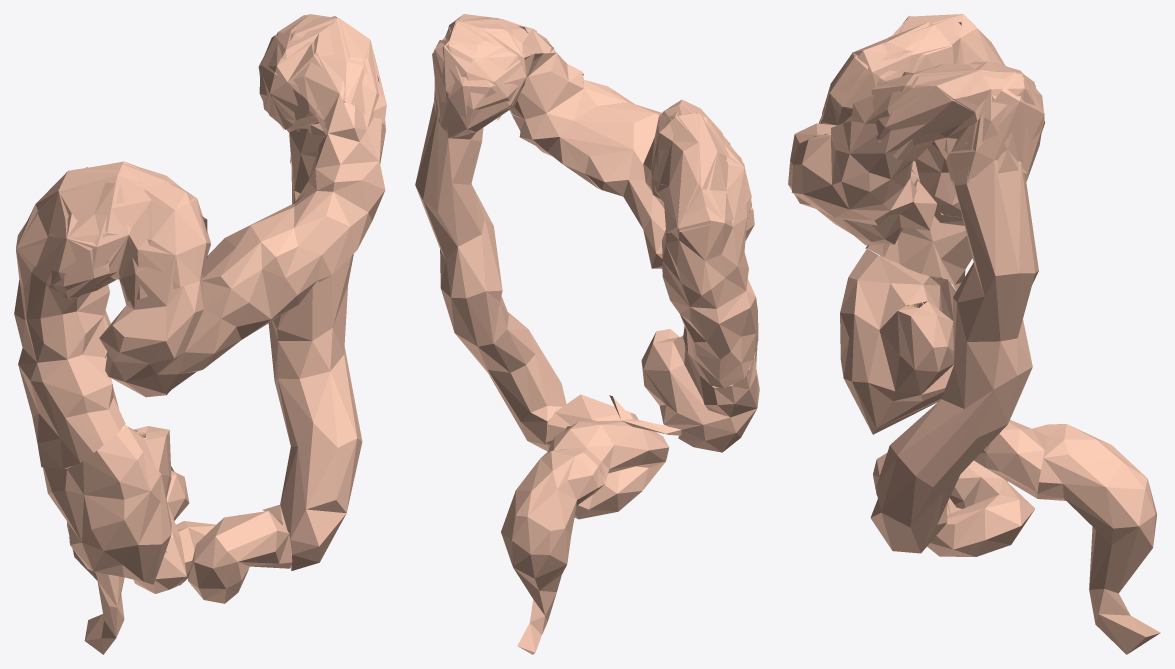
The model's file is SBU_M_Intestine_Large_0.1.glb.
3 views of the same model, side by side, from view 1: azimuth 30°, elevation 25°; view 2: azimuth 150°, elevation 25°; view 3: azimuth 270°, elevation 25° (orthographic). The views are drawn at different scales.
Visible parts, largest first — view 1: VH_M_transverse_colon, VH_M_ascending_colon, VH_M_descending_colon, VH_M_caecum, VH_M_hepatic_flexure_of_colon, VH_M_sigmoid_colon, VH_M_splenic_flexure_of_colon, VH_M_rectum; view 2: VH_M_descending_colon, VH_M_transverse_colon, VH_M_ascending_colon, VH_M_rectum, VH_M_caecum, VH_M_sigmoid_colon, VH_M_splenic_flexure_of_colon, VH_M_hepatic_flexure_of_colon, VH_M_vermiform_appendix; view 3: VH_M_descending_colon, VH_M_transverse_colon, VH_M_caecum, VH_M_rectum, VH_M_sigmoid_colon, VH_M_splenic_flexure_of_colon, VH_M_ascending_colon, VH_M_hepatic_flexure_of_colon.
Part boxes in pixels (x1,y1,x2,y2): VH_M_transverse_colon: (99, 14, 385, 397); VH_M_ascending_colon: (14, 162, 125, 468); VH_M_descending_colon: (261, 14, 362, 570); VH_M_caecum: (43, 425, 171, 584); VH_M_hepatic_flexure_of_colon: (17, 161, 210, 301); VH_M_sigmoid_colon: (133, 466, 292, 603); VH_M_splenic_flexure_of_colon: (258, 15, 386, 135); VH_M_rectum: (67, 521, 124, 654); VH_M_descending_colon: (415, 40, 566, 451); VH_M_transverse_colon: (447, 14, 754, 268); VH_M_ascending_colon: (651, 113, 758, 388); VH_M_rectum: (501, 449, 605, 654); VH_M_caecum: (641, 329, 759, 452); VH_M_sigmoid_colon: (545, 394, 669, 519); VH_M_splenic_flexure_of_colon: (434, 14, 538, 137); VH_M_hepatic_flexure_of_colon: (643, 99, 751, 232); VH_M_vermiform_appendix: (609, 395, 681, 435); VH_M_descending_colon: (870, 72, 1044, 553); VH_M_transverse_colon: (788, 15, 1014, 245); VH_M_caecum: (840, 248, 956, 434); VH_M_rectum: (1037, 424, 1160, 654); VH_M_sigmoid_colon: (873, 420, 1048, 556); VH_M_splenic_flexure_of_colon: (871, 61, 1044, 181); VH_M_ascending_colon: (865, 14, 1005, 290); VH_M_hepatic_flexure_of_colon: (822, 14, 1001, 124).
Size of the model in its own units: 0.2603 by 0.4474 by 0.2272.
